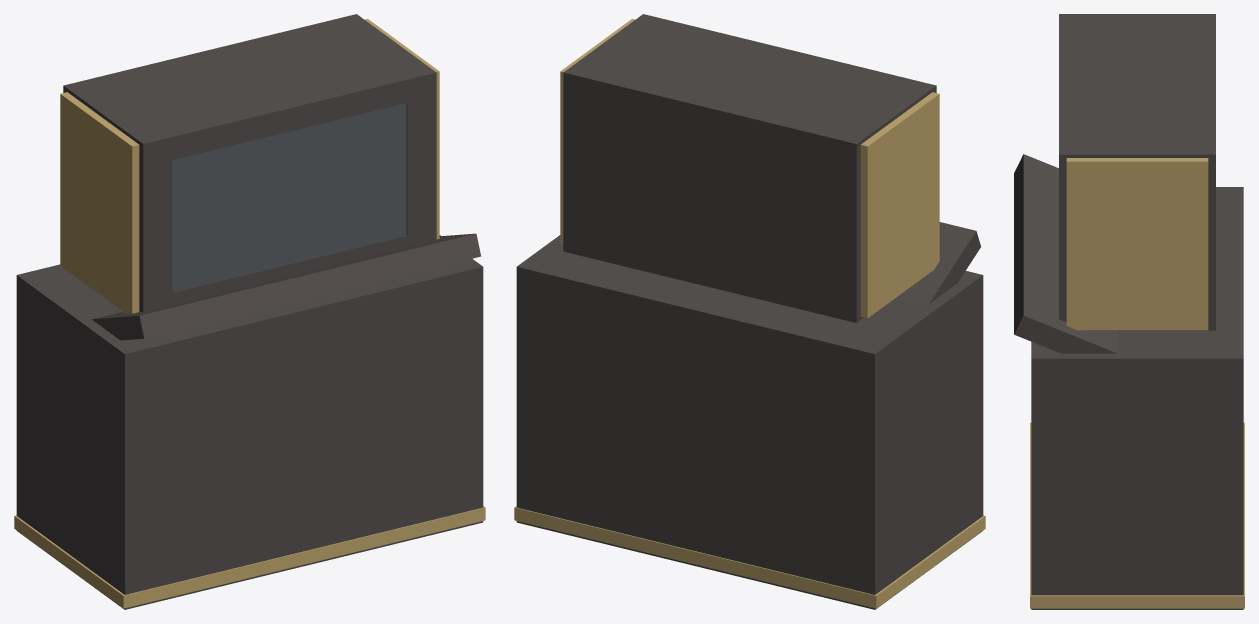
The model's file is consoleMV-proxy.glb.
The picture shows the model from 3 angles, left to right: view 1: azimuth 30°, elevation 25°; view 2: azimuth 150°, elevation 25°; view 3: azimuth 270°, elevation 25°; orthographic projection.
Visible parts, largest first — view 1: Body_Iron, CRT_Glass, CRT_Bezel, Trim_Brass, Panel_Controls, Trim_Brass_plinth, CRT_Bezel_left, CRT_Bezel_right, CRT_Bezel_chin, CRT_Bezel_back, Trim_Brass_1; view 2: Body_Iron, CRT_Bezel_back, CRT_Bezel, Trim_Brass, Trim_Brass_plinth, CRT_Bezel_chin, CRT_Bezel_left, CRT_Bezel_right, Panel_Controls, Trim_Brass_1; view 3: Body_Iron, Trim_Brass_1, CRT_Bezel, Panel_Controls, Trim_Brass_plinth, CRT_Bezel_back, CRT_Bezel_right.
Boxes of the visible parts, x1,y1,x2,y2 form: Body_Iron: (16,235,483,609); CRT_Glass: (172,103,406,291); CRT_Bezel: (63,17,436,167); Trim_Brass: (60,92,139,314); Panel_Controls: (92,233,481,340); Trim_Brass_plinth: (14,506,485,608); CRT_Bezel_left: (139,160,172,299); CRT_Bezel_right: (406,96,436,235); CRT_Bezel_chin: (139,228,436,311); CRT_Bezel_back: (63,14,360,92); Trim_Brass_1: (364,19,439,239); Body_Iron: (516,235,983,609); CRT_Bezel_back: (563,69,861,322); CRT_Bezel: (563,14,936,167); Trim_Brass: (860,92,939,318); Trim_Brass_plinth: (514,506,985,608); CRT_Bezel_chin: (563,228,863,322); CRT_Bezel_left: (827,160,856,299); CRT_Bezel_right: (563,96,592,235); Panel_Controls: (897,222,980,304); Trim_Brass_1: (560,19,635,243); Body_Iron: (1031,187,1243,609); Trim_Brass_1: (1066,158,1208,330); CRT_Bezel: (1059,14,1215,177); Panel_Controls: (1014,154,1117,353); Trim_Brass_plinth: (1030,422,1244,608); CRT_Bezel_back: (1206,14,1215,330); CRT_Bezel_right: (1059,177,1215,307).
Size of what is drawn, in the model's own units: 0.8888 by 1.05 by 0.4992.
